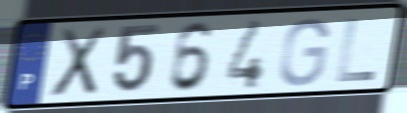4: (223, 18, 265, 92)
5: (111, 24, 164, 96)
6: (167, 19, 217, 95)
G: (277, 15, 332, 89)
L: (334, 16, 377, 84)
X: (47, 23, 110, 100)
